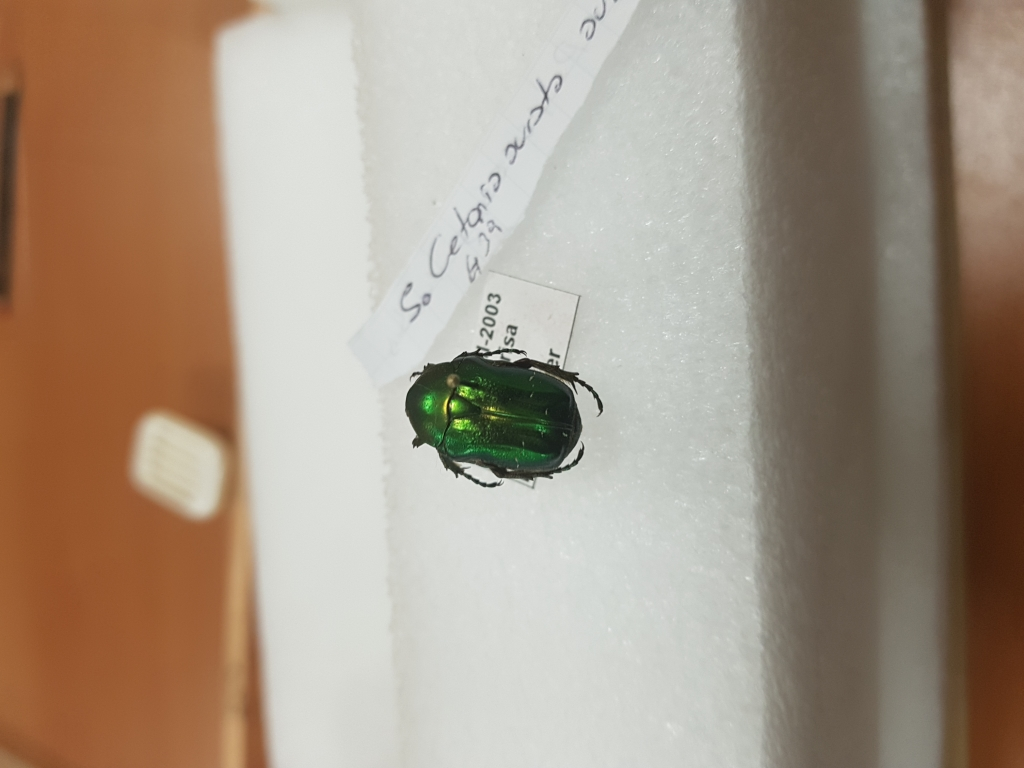Cetonia_aurata: (393, 347, 607, 491)
